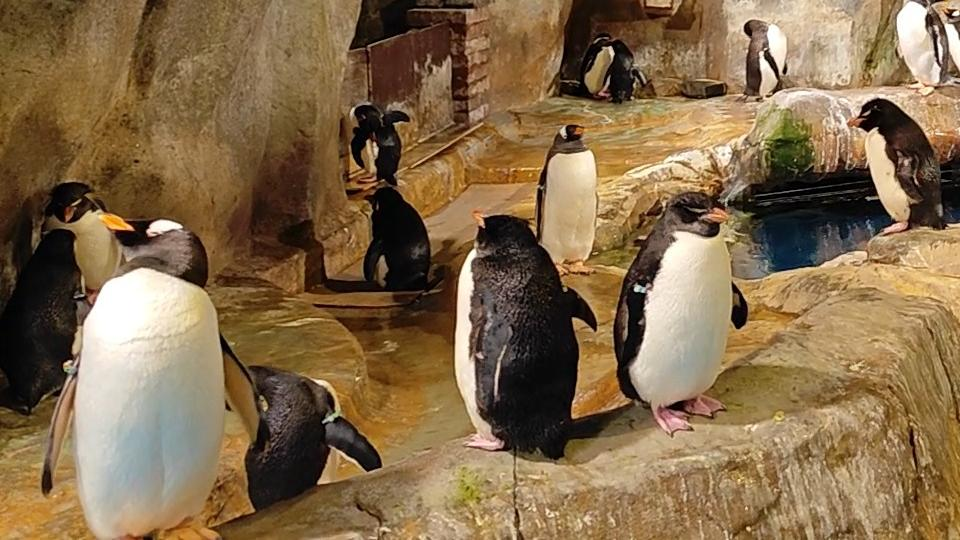Southern Rockhopper Penguin: (441, 204, 602, 462), (616, 184, 756, 433), (208, 350, 395, 521), (3, 224, 91, 419), (840, 94, 951, 241), (21, 173, 137, 302), (349, 183, 437, 302), (339, 99, 414, 184), (594, 36, 649, 108), (573, 33, 619, 100)
